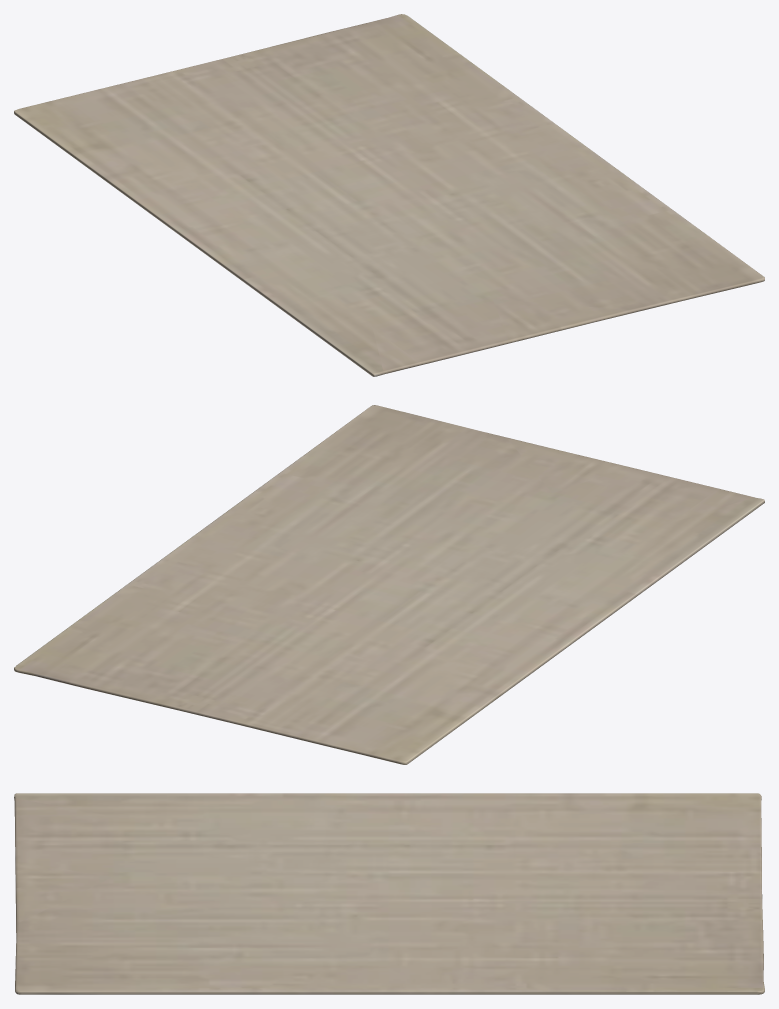
3 renders of one model, top to bottom at view 1: azimuth 30°, elevation 25°; view 2: azimuth 150°, elevation 25°; view 3: azimuth 270°, elevation 25°, orthographic. The views are drawn at different scales.
Visible parts, largest first — view 1: Rectangle001; view 2: Rectangle001; view 3: Rectangle001.
Part boxes in pixels (x1,y1,x2,y2): Rectangle001: (14,14,764,376); Rectangle001: (14,405,764,764); Rectangle001: (14,793,764,994).
Bounding box in the file's own units: 0.5 × 0.00449 × 0.7994.
Materials: 1 (1 with a texture image).
